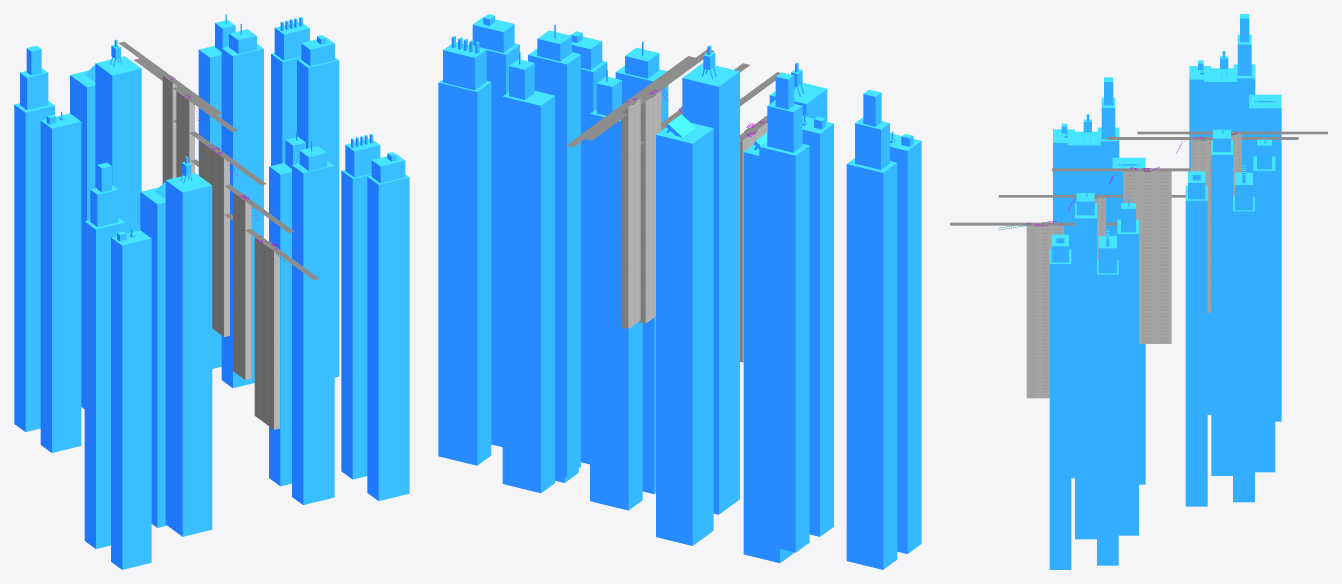
Rendered from Level2-g.fbx.
3 views of the same model, side by side, from view 1: azimuth 30°, elevation 25°; view 2: azimuth 150°, elevation 25°; view 3: azimuth 270°, elevation 25° (orthographic). The views are drawn at different scales.
Parts seen in each view (by area): view 1: Cube (12) (×2), Cube (23) (×2), Cube (18) (×2), Cube (1) (×2), Cube (×2), Cube (6) (×2), Cube (9) (×2), Cube (13) (×2), GroundFastFlow (2) (×2), GroundFastFlow (3), Cube (3) (×2), Cube (7) (×2) (+5 smaller); view 2: Cube (×2), Cube (13) (×2), Cube (9) (×2), Cube (12) (×2), Cube (6), Cube (18) (×2), Cube (23) (×2), Cube (1) (×2), GroundFastFlow, GroundFastFlow (1), Cube (3) (×2), Cube (4) (×2) (+6 smaller); view 3: Cube (18) (×2), Cube (1) (×2), Cube (13) (×2), Cube (6) (×2), GroundFastFlow (2), Cube (23) (×2), Cube (9) (×2), GroundFastFlow (3), Cube (12) (×2), Cube (×2), GroundPlaneQuad (×4), GroundFastFlow (1) (+2 smaller).
Part boxes in pixels (x1=…): Cube (12) (×2): x1=40, y1=113, x2=151, y2=569; Cube (23) (×2): x1=95, y1=56, x2=212, y2=536; Cube (18) (×2): x1=221, y1=44, x2=334, y2=504; Cube (1) (×2): x1=297, y1=57, x2=409, y2=500; Cube (×2): x1=14, y1=101, x2=125, y2=548; Cube (6) (×2): x1=271, y1=53, x2=371, y2=479; Cube (9) (×2): x1=70, y1=70, x2=166, y2=527; Cube (13) (×2): x1=198, y1=45, x2=291, y2=486; GroundFastFlow (2) (×2): x1=199, y1=140, x2=251, y2=379; GroundFastFlow (3): x1=254, y1=237, x2=279, y2=429; Cube (3) (×2): x1=20, y1=68, x2=118, y2=227; Cube (7) (×2): x1=274, y1=22, x2=380, y2=177; Cube (×2): x1=759, y1=141, x2=897, y2=569; Cube (13) (×2): x1=502, y1=91, x2=642, y2=510; Cube (9) (×2): x1=656, y1=123, x2=794, y2=562; Cube (12) (×2): x1=802, y1=116, x2=921, y2=553; Cube (6): x1=438, y1=79, x2=491, y2=465; Cube (18) (×2): x1=528, y1=48, x2=668, y2=494; Cube (23) (×2): x1=682, y1=63, x2=827, y2=514; Cube (1) (×2): x1=468, y1=43, x2=607, y2=464; GroundFastFlow: x1=621, y1=98, x2=640, y2=328; GroundFastFlow (1): x1=639, y1=90, x2=661, y2=323; Cube (3) (×2): x1=767, y1=100, x2=889, y2=169; Cube (4) (×2): x1=472, y1=16, x2=602, y2=69; Cube (18) (×2): x1=1075, y1=140, x2=1232, y2=539; Cube (1) (×2): x1=1049, y1=186, x2=1207, y2=569; Cube (13) (×2): x1=1117, y1=156, x2=1275, y2=535; Cube (6) (×2): x1=1097, y1=196, x2=1254, y2=565; GroundFastFlow (2): x1=1123, y1=171, x2=1171, y2=343; Cube (23) (×2): x1=1067, y1=68, x2=1236, y2=478; Cube (9) (×2): x1=1112, y1=94, x2=1281, y2=484; GroundFastFlow (3): x1=1026, y1=225, x2=1063, y2=398; Cube (12) (×2): x1=1053, y1=66, x2=1210, y2=234; Cube (×2): x1=1097, y1=64, x2=1255, y2=235; GroundPlaneQuad (×4): x1=950, y1=131, x2=1327, y2=225; GroundFastFlow (1): x1=1191, y1=140, x2=1212, y2=312.
Size of the model in its own units: 338 by 499 by 396.
6 materials, 1 textured.
